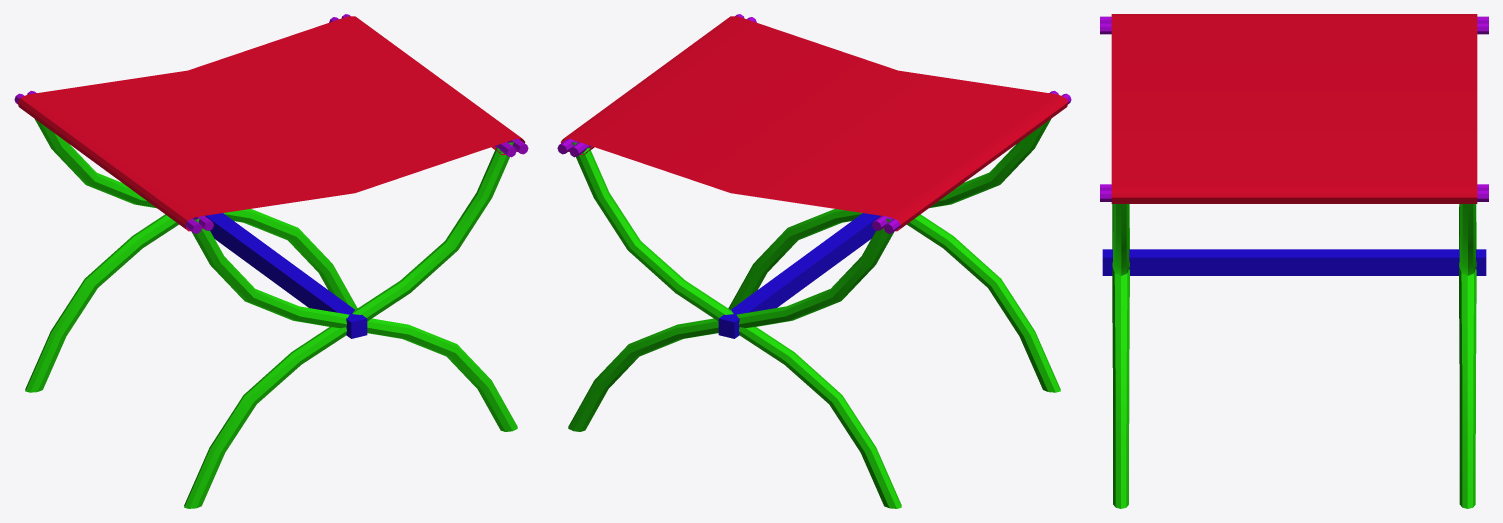
Rendered from Siege_Low.fbx.
The picture shows the model from 3 angles, left to right: view 1: azimuth 30°, elevation 25°; view 2: azimuth 150°, elevation 25°; view 3: azimuth 270°, elevation 25°; orthographic projection. The views are drawn at different scales.
Parts seen in each view (by area): view 1: Plane; view 2: Plane; view 3: Plane.
Boxes of the visible parts, left/top/right/bottom form: Plane: left=14, top=14, right=528, bottom=508; Plane: left=557, top=14, right=1071, bottom=508; Plane: left=1100, top=14, right=1488, bottom=508.
Bounding box in the file's own units: 200 × 164 × 181.
